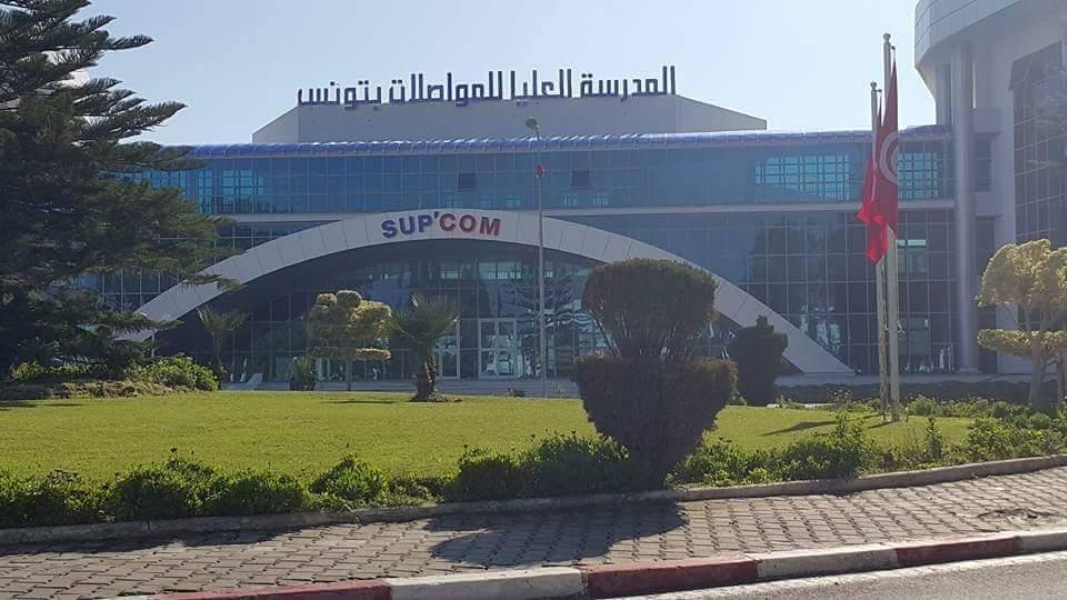text: (593, 65, 608, 107), (609, 65, 624, 107), (625, 65, 640, 107), (641, 65, 656, 107), (657, 65, 672, 107), (513, 66, 528, 108), (529, 66, 544, 108), (545, 66, 560, 108), (401, 69, 416, 109), (417, 69, 432, 109), (433, 69, 448, 109), (449, 69, 464, 109), (465, 69, 480, 109), (481, 69, 496, 109), (578, 65, 592, 107), (387, 69, 400, 109), (561, 66, 573, 108), (305, 79, 320, 112), (321, 79, 336, 112), (337, 79, 352, 112), (353, 79, 368, 112), (369, 79, 384, 112), (385, 209, 400, 241), (401, 209, 416, 241), (417, 209, 432, 241), (433, 209, 448, 241), (449, 209, 464, 241), (465, 209, 480, 241), (481, 209, 496, 241), (497, 69, 505, 109), (296, 79, 304, 112), (497, 209, 504, 241), (673, 65, 677, 107), (380, 209, 384, 241), (510, 66, 512, 108)
